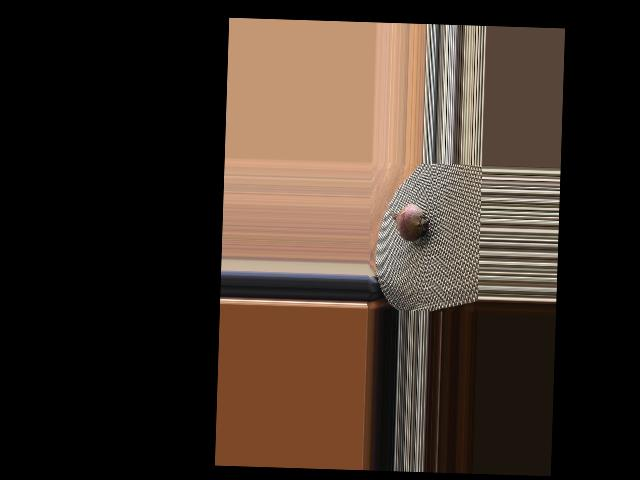beet: (384, 197, 431, 247)
